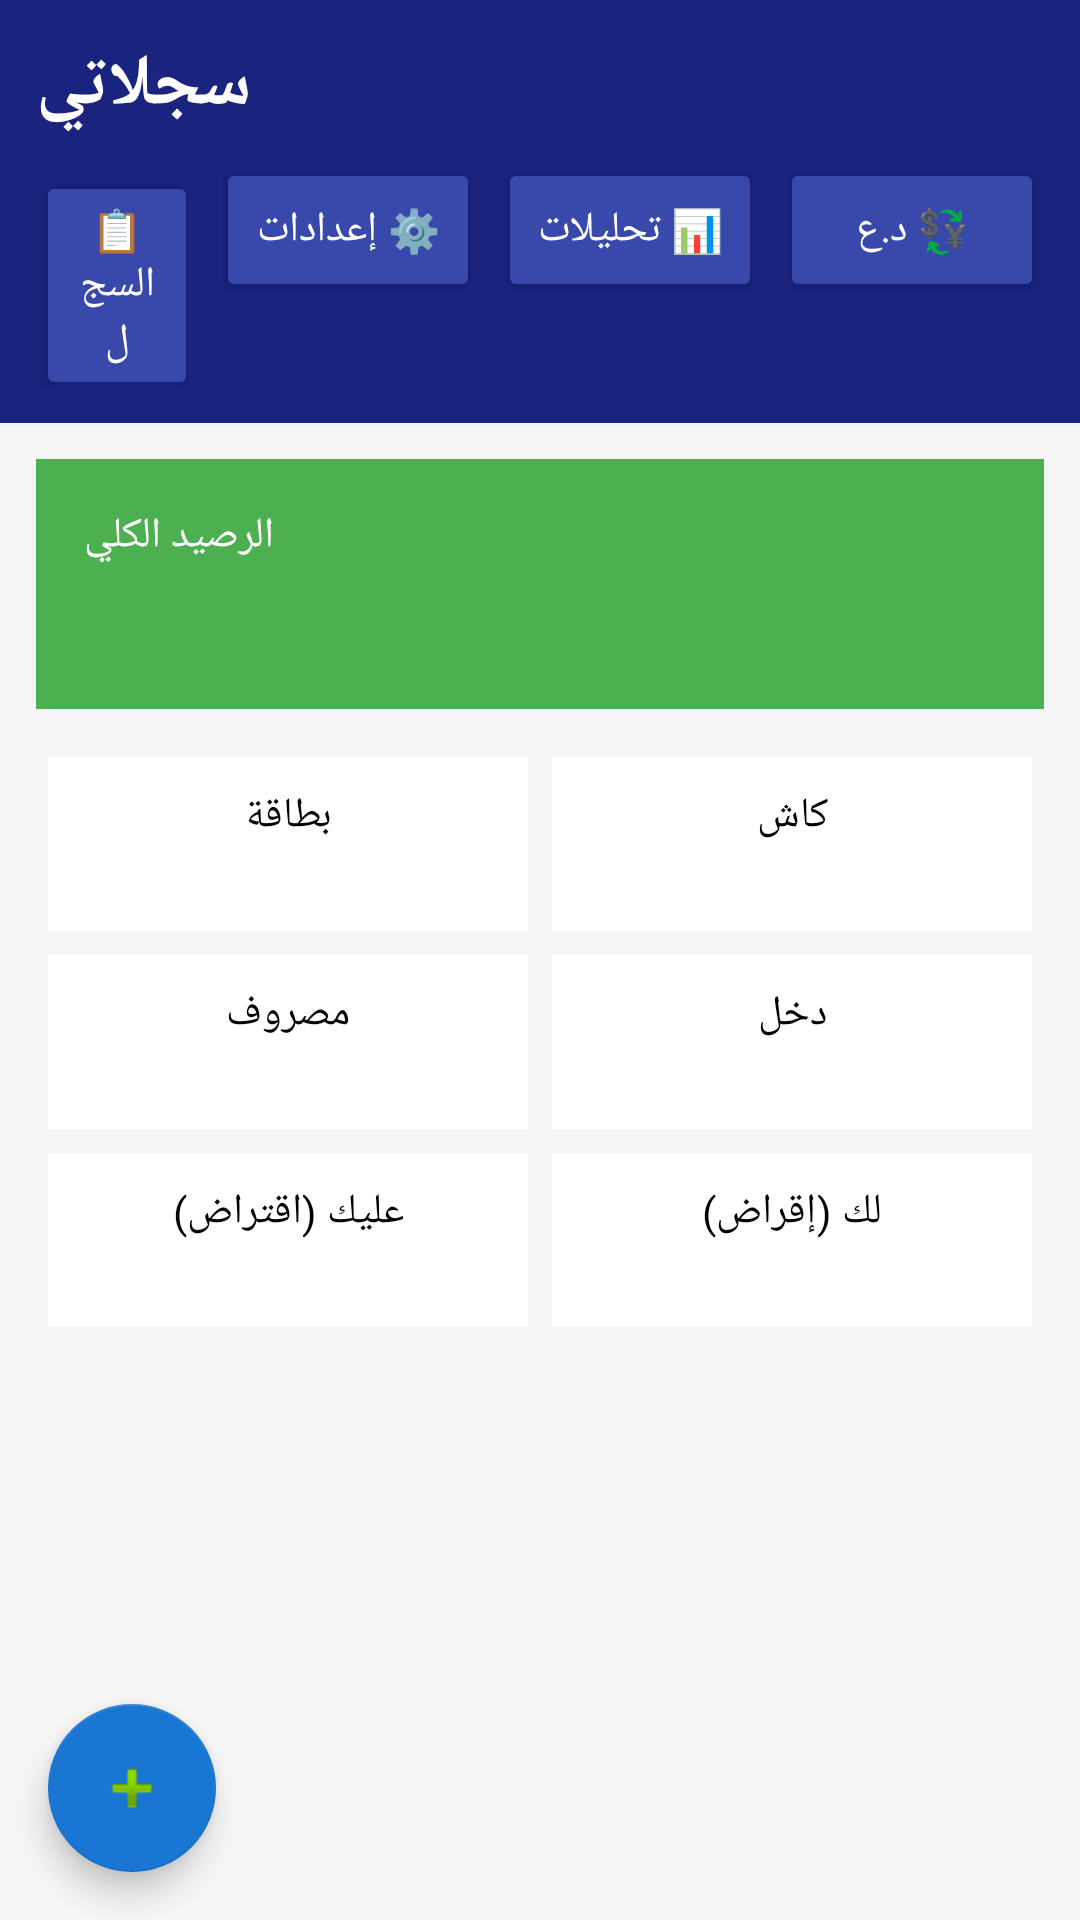

Named icons in this screenshot (1080px×1920px) and their centers, (x=x, y=y):
add: (x=132, y=1788)
